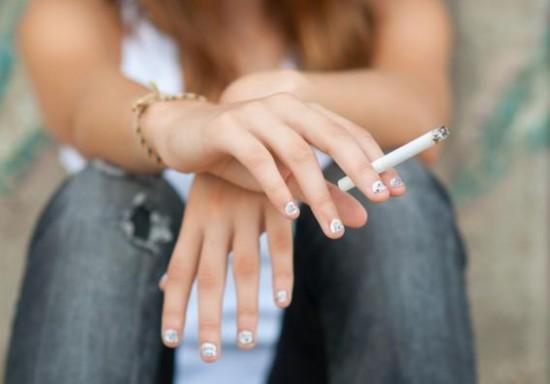Cigarette: (337, 124, 452, 194)
